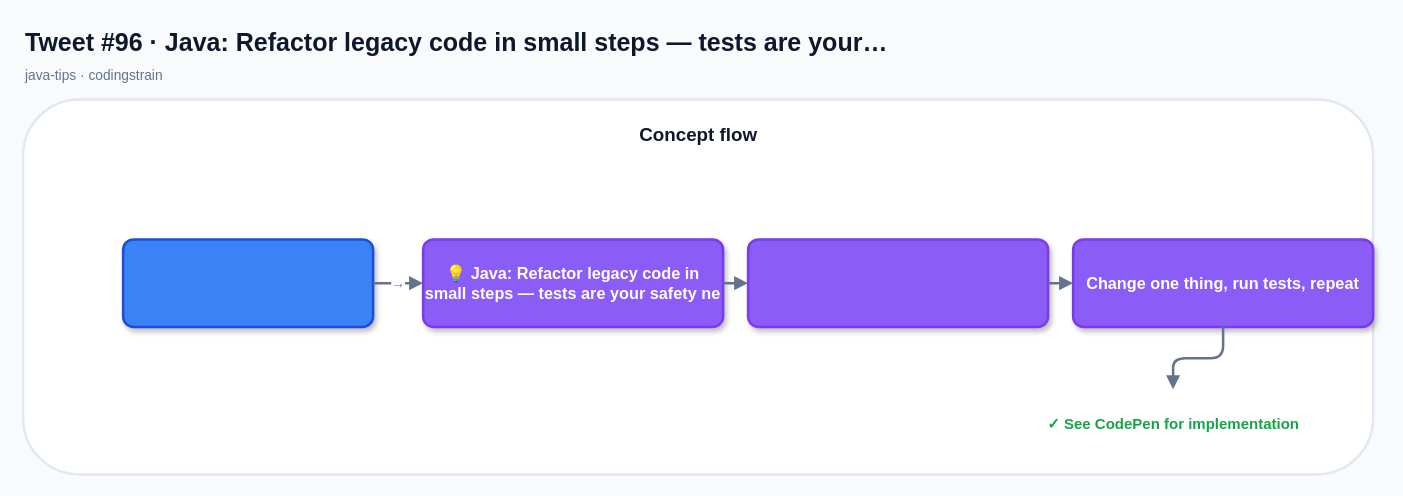
Some shapes in this 1403 by 496 pixel diagram are drawn without their labels. Here are the shapes that lost their labels. From the top down, the centre of each, then its label:
At [248,284]: "Problem / context".
At [898,284]: "Add a test that captures current behavior first".
